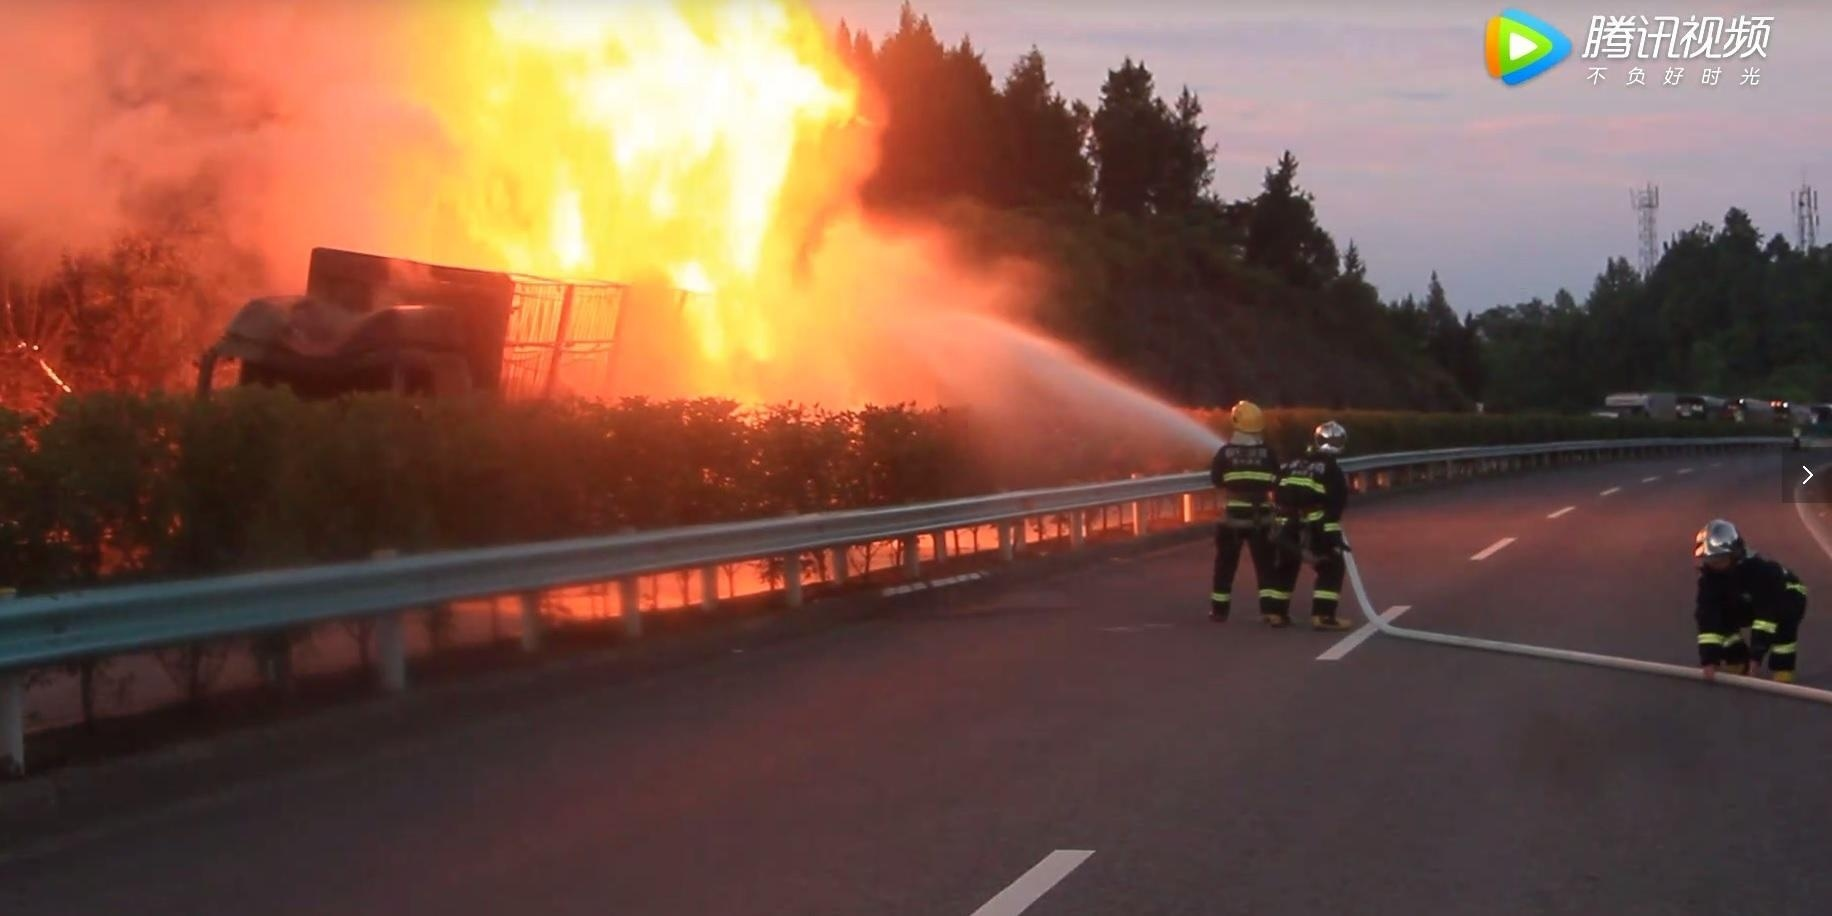fire: (412, 0, 870, 306)
